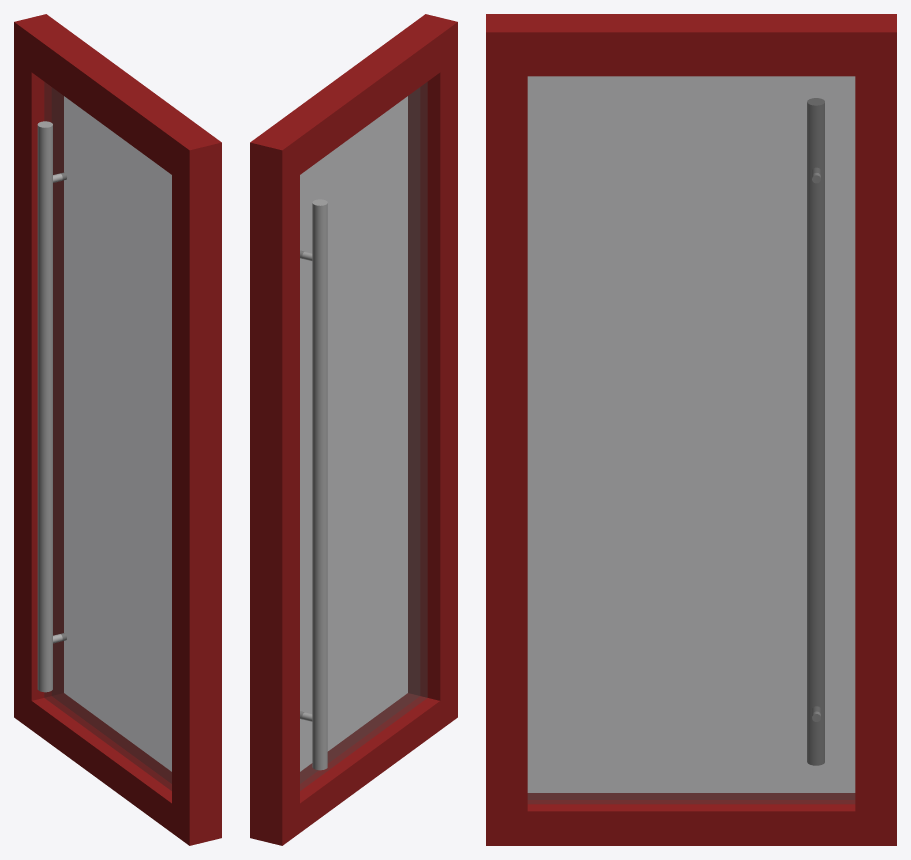
File: tabakladen_tuer.fbx
3 renders of one model, left to right at view 1: azimuth 30°, elevation 25°; view 2: azimuth 150°, elevation 25°; view 3: azimuth 270°, elevation 25°, orthographic. The views are drawn at different scales.
Visible parts, largest first — view 1: door1, pCube1, pCylinder1; view 2: door1, pCube1, pCylinder1; view 3: pCube1, door1, pCylinder1.
Part boxes in pixels (box(x1,y1,x2,y2)): door1: box(14, 14, 221, 845); pCube1: box(44, 82, 171, 790); pCylinder1: box(37, 121, 52, 692); door1: box(250, 14, 457, 845); pCube1: box(300, 82, 427, 790); pCylinder1: box(312, 199, 327, 770); pCube1: box(527, 76, 855, 803); door1: box(486, 14, 896, 845); pCylinder1: box(807, 98, 824, 765).
Bounding box in the file's own units: 0.1265 × 1.99 × 0.9108.
